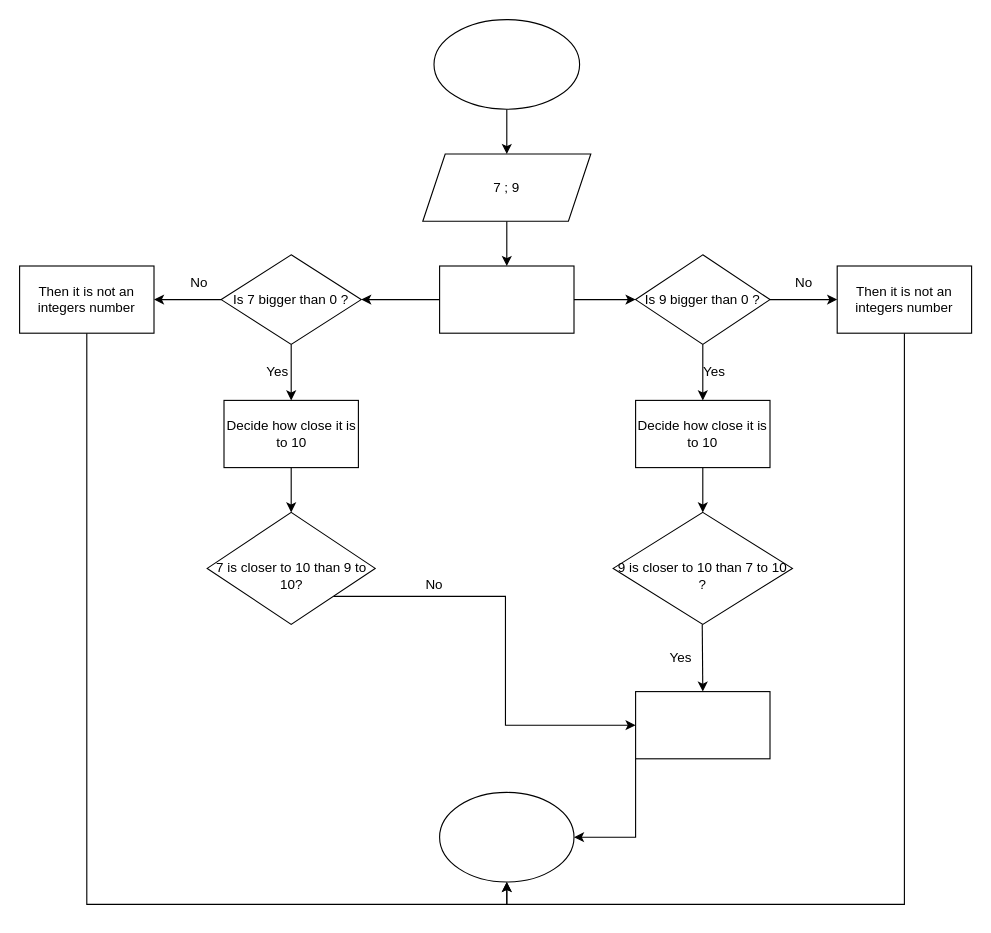
This 991x933 diagram has some shape labels left out. Each missing label, with the centre of its shape:
"9 is bigger than 7" goes at [702,724].
"Analise which one of them are bigger" goes at [506,299].
"End" goes at [506,836].
"Start" goes at [506,63].
